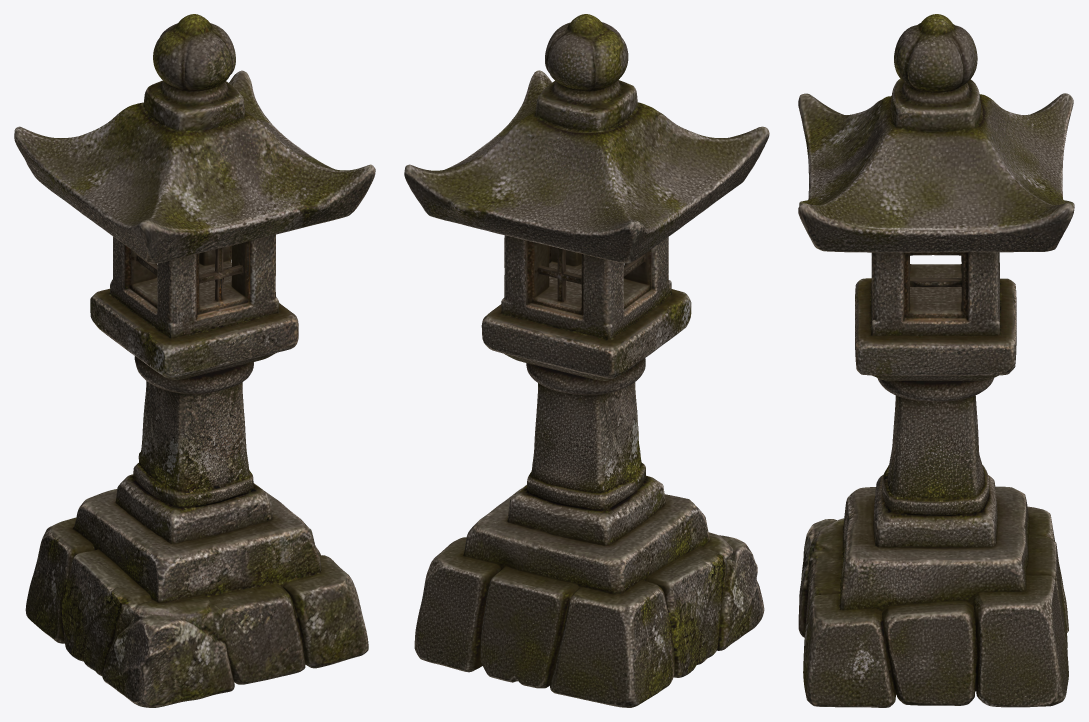
3 renders of one model, left to right at view 1: azimuth 30°, elevation 25°; view 2: azimuth 150°, elevation 25°; view 3: azimuth 270°, elevation 25°, orthographic. The views are drawn at different scales.
Parts seen in each view (by area): view 1: stone garden lantern 3d model; view 2: stone garden lantern 3d model; view 3: stone garden lantern 3d model.
Boxes of the visible parts, <box> form: stone garden lantern 3d model: <box>14,14,375,707</box>; stone garden lantern 3d model: <box>404,14,769,707</box>; stone garden lantern 3d model: <box>798,14,1074,707</box>.
Size of the model in its own units: 38.67 by 97.95 by 38.56.
Materials: 1 (1 with a texture image).
